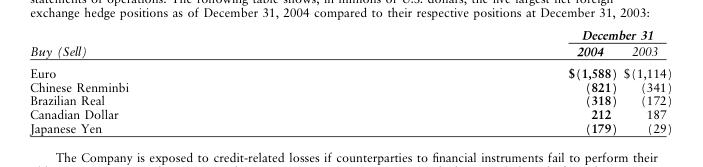table: (29, 28, 672, 135)
table column: (29, 28, 347, 135), (347, 28, 619, 135), (619, 28, 672, 135)
table column header: (29, 28, 672, 62)
table row: (29, 43, 672, 62), (29, 62, 672, 80), (29, 28, 672, 43), (29, 80, 672, 94), (29, 94, 672, 108), (29, 108, 672, 122), (29, 122, 672, 135)
table spanning cell: (29, 28, 347, 62), (347, 28, 672, 43)
